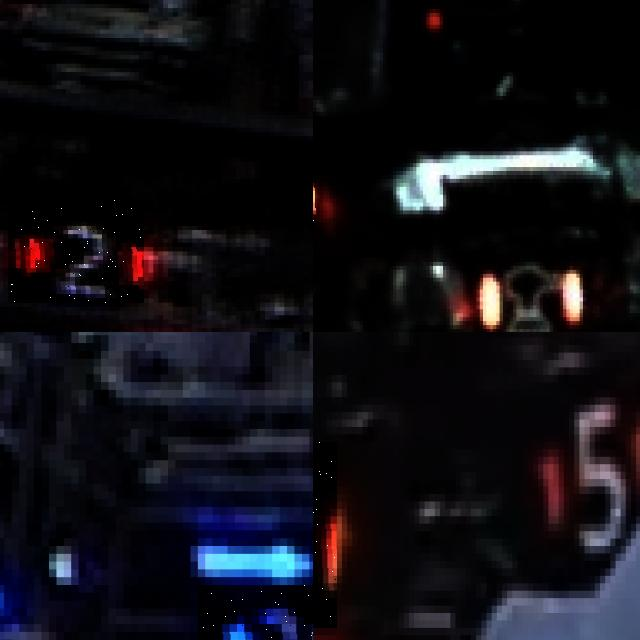B2: (197, 584, 313, 640)
R2: (8, 200, 144, 303)
R5: (538, 397, 640, 553)
Rs: (476, 262, 580, 329)
